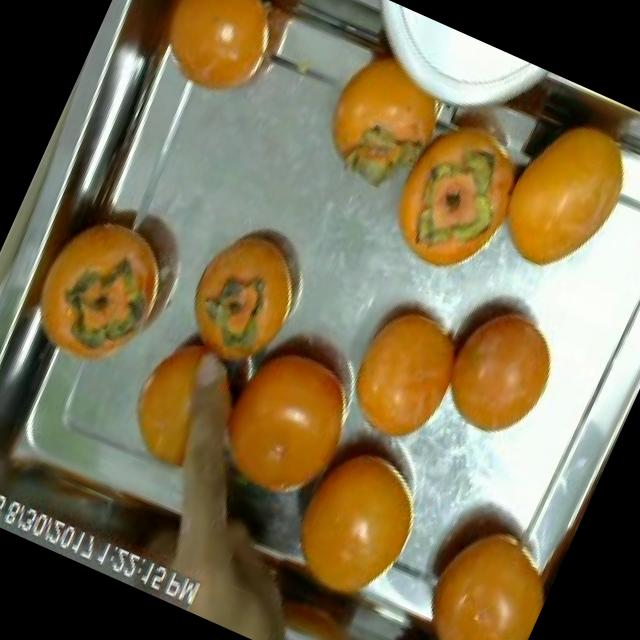Fruit: (178, 285, 396, 540), (247, 409, 456, 640), (8, 177, 204, 401), (316, 270, 492, 470), (475, 93, 640, 304), (290, 23, 469, 217), (410, 272, 588, 466), (380, 477, 577, 640), (161, 196, 330, 386), (99, 312, 269, 500), (85, 0, 320, 134)
